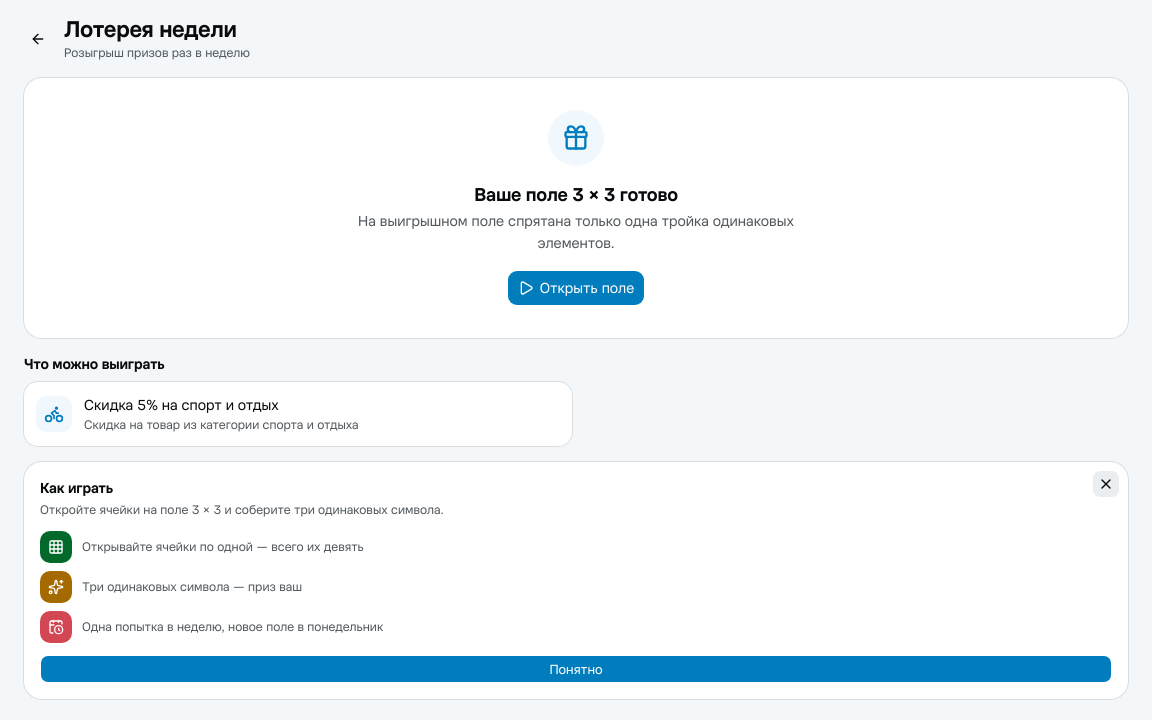
Test case: WeeklyLotteryScreen › explains the rules once through the dismissible help panel
Check: the text "Три одинаковых символа — приз ваш" is shown, box [82, 578, 302, 596]
Check: the text "Одна попытка в неделю, новое поле в понедельник" is shown, box [82, 618, 383, 636]
What coordinates should you click on to do the following:
click the button "Понятно"
I would click on:
 (576, 669)
Its box is [40, 655, 1112, 683].
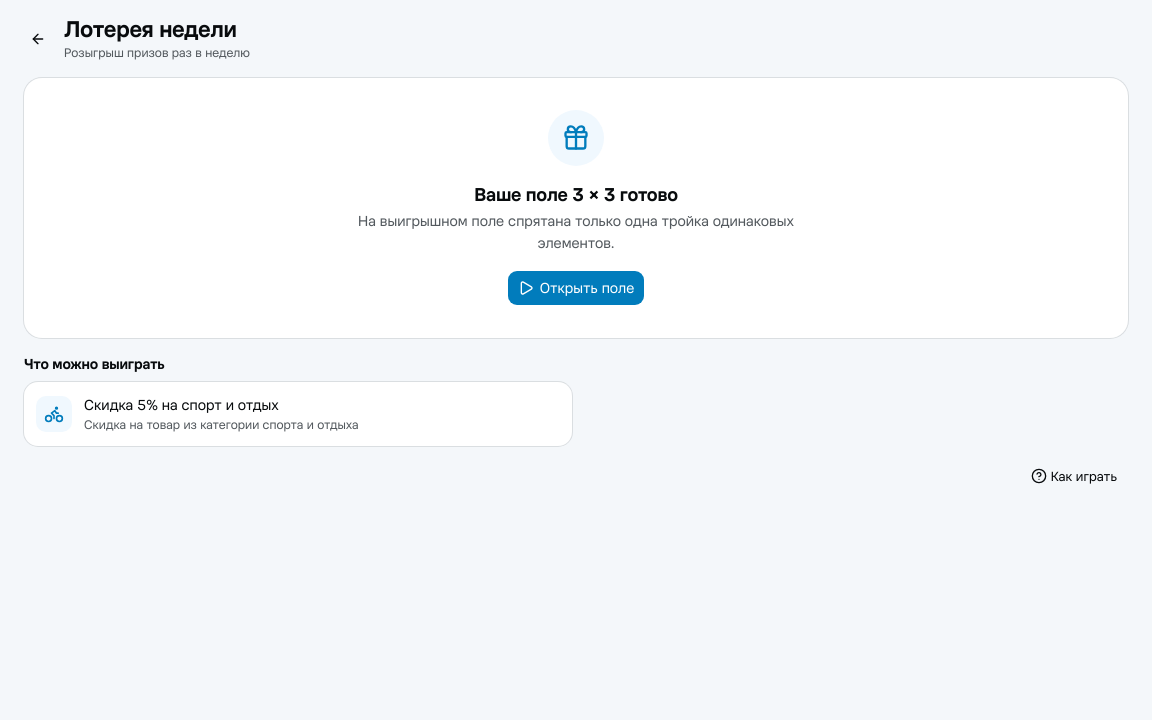
Check: the button "Как играть" is shown, box [1020, 462, 1128, 490]
Check: the text "Три одинаковых символа — приз ваш" is gone
